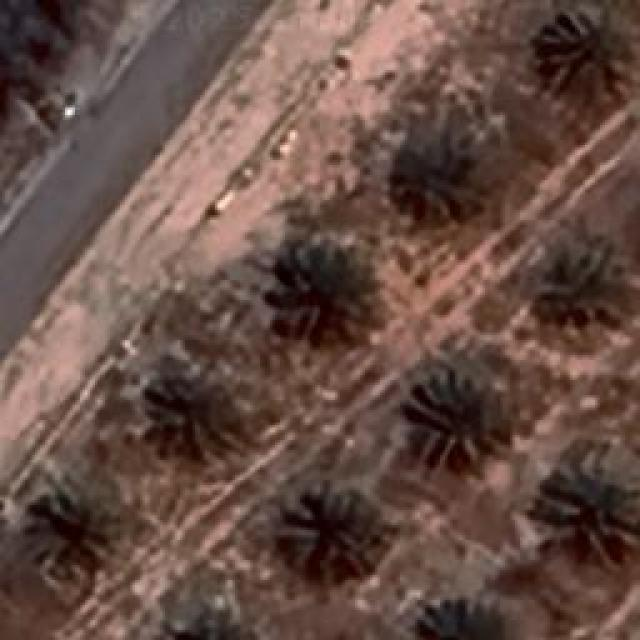PalmTree: (275, 245, 370, 338), (390, 132, 482, 226), (540, 2, 635, 90), (540, 455, 635, 543), (282, 490, 380, 572), (532, 248, 626, 330), (410, 372, 490, 466), (32, 490, 118, 562), (142, 381, 228, 451), (418, 595, 518, 635), (147, 606, 260, 640)
